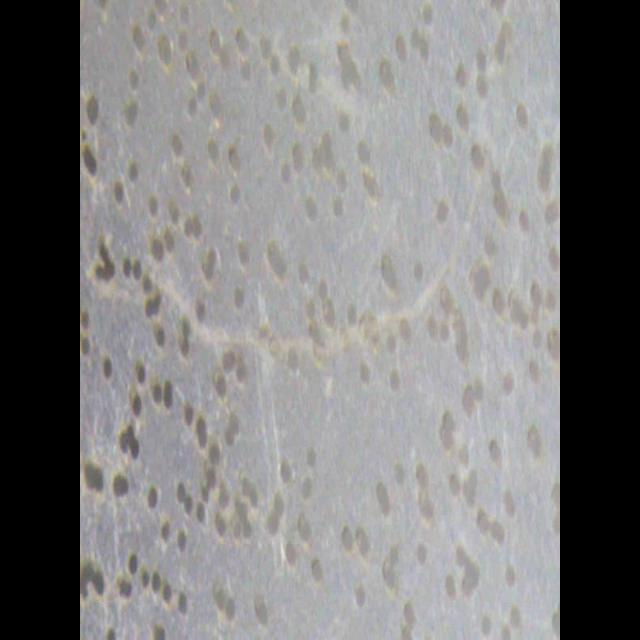Fibre: (121, 223, 483, 389)
